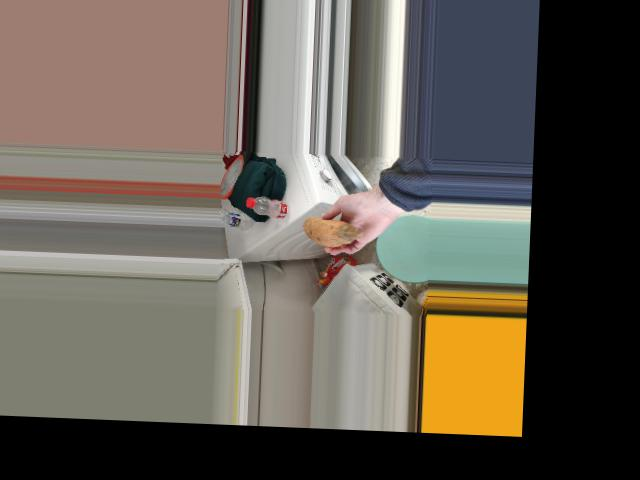sweet_potato: (298, 213, 366, 244)
